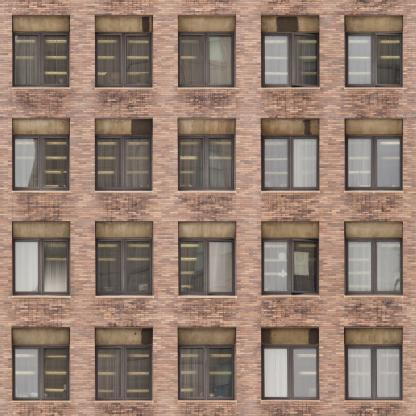Building Outline: (0, 0, 415, 415)
Cornice: (12, 327, 70, 345), (345, 327, 403, 345), (95, 327, 153, 345), (178, 327, 236, 345), (261, 327, 319, 345), (12, 117, 70, 135), (345, 117, 403, 135), (95, 117, 153, 135), (178, 117, 236, 135), (262, 117, 320, 135), (12, 15, 70, 32), (345, 15, 403, 32), (95, 15, 153, 32), (178, 15, 236, 32), (262, 15, 320, 32), (12, 221, 70, 238), (345, 221, 403, 238), (95, 221, 153, 238), (178, 221, 236, 238), (261, 221, 319, 238)
Facade: (0, 0, 415, 414)
Floor: (0, 217, 416, 318), (0, 112, 416, 212), (0, 11, 416, 107), (0, 323, 416, 410)
Floor Slab: (0, 6, 416, 11), (0, 411, 416, 416), (0, 318, 416, 323), (0, 213, 416, 218), (0, 107, 416, 112)
Window: (12, 33, 70, 88), (95, 33, 153, 88), (178, 33, 236, 88), (261, 33, 319, 88), (12, 346, 70, 401), (95, 346, 153, 401), (178, 346, 236, 401), (261, 346, 319, 401), (12, 136, 70, 191), (95, 136, 153, 191), (178, 136, 236, 191), (261, 136, 319, 191), (345, 239, 402, 294), (12, 240, 70, 294), (95, 240, 153, 294), (178, 240, 236, 294), (261, 240, 319, 294), (345, 33, 402, 87), (345, 346, 402, 400), (345, 136, 402, 190)
